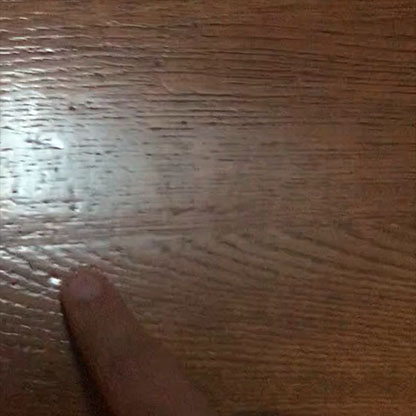fingertip: (44, 256, 136, 328)
